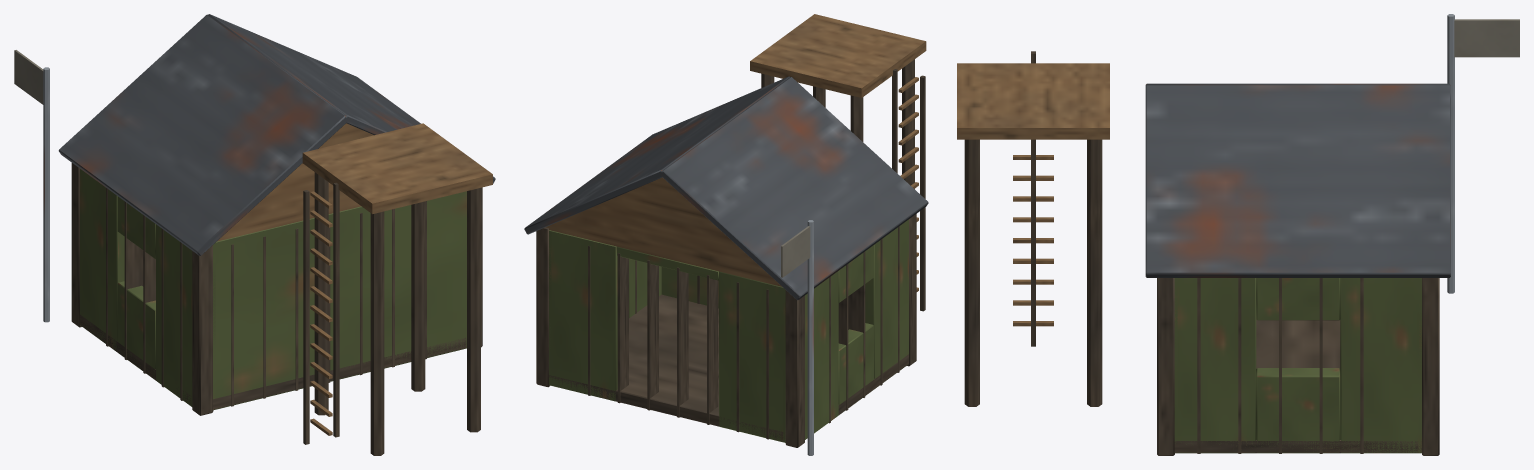
The model's file is SM_POI_RangerStation.fbx.
3 renders of one model, left to right at view 1: azimuth 30°, elevation 25°; view 2: azimuth 150°, elevation 25°; view 3: azimuth 270°, elevation 25°, orthographic. The views are drawn at different scales.
Visible parts, largest first — view 1: SM_POI_RangerStation; view 2: SM_POI_RangerStation; view 3: SM_POI_RangerStation.
Boxes of the visible parts, x1,y1,x2,y2 form: SM_POI_RangerStation: [14, 14, 495, 455]; SM_POI_RangerStation: [524, 14, 928, 455]; SM_POI_RangerStation: [957, 14, 1519, 455].
Bounding box in the file's own units: 15.56 × 12.84 × 22.1.
1 material, 1 textured.
